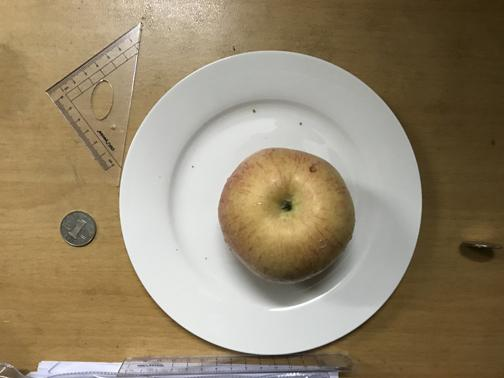apple: (217, 148, 354, 282)
coin: (60, 208, 96, 247)
